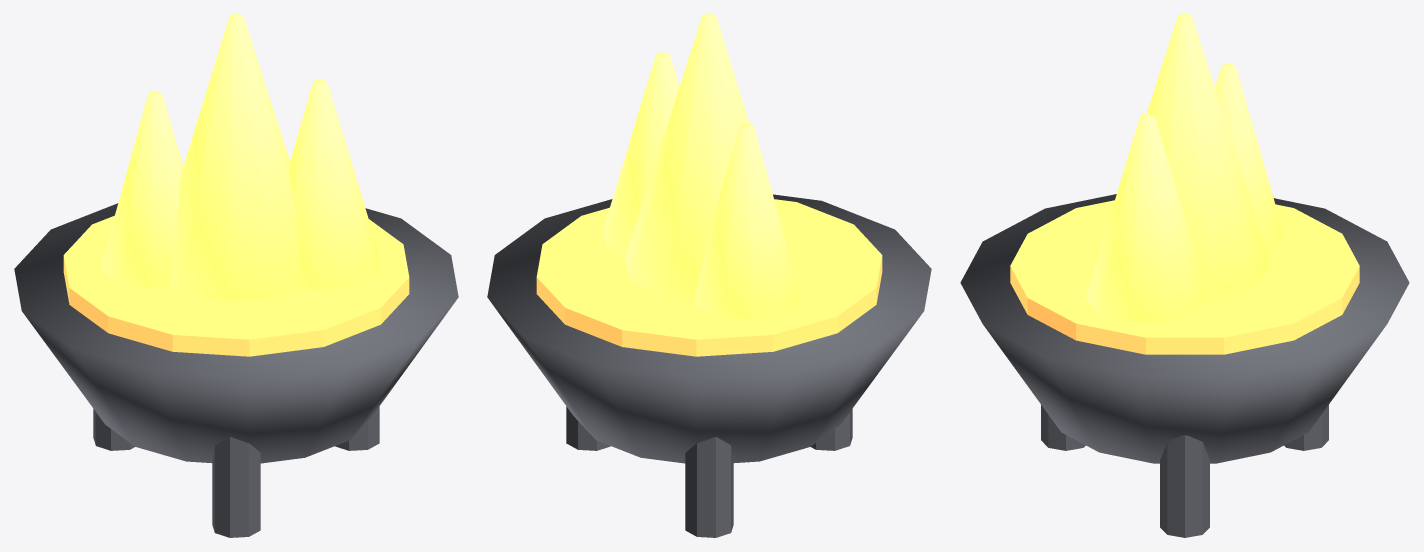
The model's file is hazard_fire.glb.
3 renders of one model, left to right at view 1: azimuth 30°, elevation 25°; view 2: azimuth 150°, elevation 25°; view 3: azimuth 270°, elevation 25°, orthographic.
Parts seen in each view (by area): view 1: BrazierBowl, FlameTongue_0, EmberBed, FlameTongue_2, FlameTongue_1, BrazierLeg_2, BrazierLeg_0, BrazierLeg_1; view 2: BrazierBowl, EmberBed, FlameTongue_0, FlameTongue_1, FlameTongue_2, BrazierLeg_1, BrazierLeg_0, BrazierLeg_2; view 3: BrazierBowl, EmberBed, FlameTongue_0, FlameTongue_2, BrazierLeg_0, FlameTongue_1, BrazierLeg_1, BrazierLeg_2.
Boxes of the visible parts, left/top/right/bottom form: BrazierBowl: left=14, top=203, right=458, bottom=463; FlameTongue_0: left=169, top=14, right=301, bottom=302; EmberBed: left=63, top=215, right=409, bottom=356; FlameTongue_2: left=289, top=79, right=380, bottom=289; FlameTongue_1: left=100, top=91, right=183, bottom=287; BrazierLeg_2: left=212, top=437, right=260, bottom=537; BrazierLeg_0: left=335, top=406, right=379, bottom=450; BrazierLeg_1: left=93, top=409, right=135, bottom=450; BrazierBowl: left=487, top=194, right=931, bottom=463; EmberBed: left=536, top=199, right=882, bottom=356; FlameTongue_0: left=625, top=14, right=749, bottom=300; FlameTongue_1: left=694, top=123, right=801, bottom=319; FlameTongue_2: left=603, top=52, right=679, bottom=255; BrazierLeg_1: left=685, top=437, right=733, bottom=537; BrazierLeg_0: left=566, top=406, right=610, bottom=450; BrazierLeg_2: left=810, top=409, right=852, bottom=450; BrazierBowl: left=960, top=194, right=1409, bottom=463; EmberBed: left=1010, top=200, right=1359, bottom=354; FlameTongue_0: left=1147, top=14, right=1271, bottom=300; FlameTongue_2: left=1085, top=113, right=1206, bottom=322; BrazierLeg_0: left=1160, top=435, right=1209, bottom=537; FlameTongue_1: left=1215, top=64, right=1284, bottom=252; BrazierLeg_1: left=1284, top=405, right=1328, bottom=450; BrazierLeg_2: left=1041, top=405, right=1085, bottom=450.
Size of the model in its own units: 0.7019 by 0.8 by 0.72.
